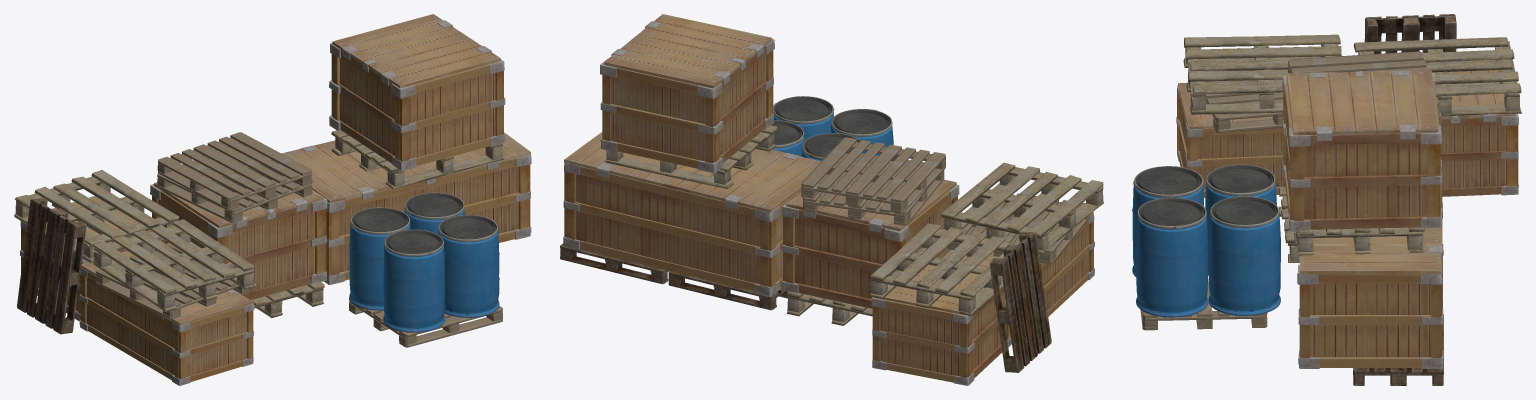
File: BoxesStackedWideShort.fbx
The picture shows the model from 3 angles, left to right: view 1: azimuth 30°, elevation 25°; view 2: azimuth 150°, elevation 25°; view 3: azimuth 270°, elevation 25°; orthographic projection. The views are drawn at different scales.
Parts seen in each view (by area): view 1: MAP_Warehouse_Main|SM_MERGED_SM_pallet01_vintage2_24|Dupli|3; view 2: MAP_Warehouse_Main|SM_MERGED_SM_pallet01_vintage2_24|Dupli|3; view 3: MAP_Warehouse_Main|SM_MERGED_SM_pallet01_vintage2_24|Dupli|3.
Boxes of the visible parts, x1,y1,x2,y2 form: MAP_Warehouse_Main|SM_MERGED_SM_pallet01_vintage2_24|Dupli|3: (14, 14, 531, 385); MAP_Warehouse_Main|SM_MERGED_SM_pallet01_vintage2_24|Dupli|3: (560, 14, 1103, 385); MAP_Warehouse_Main|SM_MERGED_SM_pallet01_vintage2_24|Dupli|3: (1132, 14, 1521, 385).
Size of the model in its own units: 534 by 227 by 344.
Materials: 5 (5 with a texture image).
